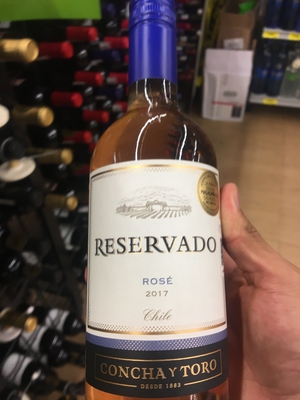reservado rose: (80, 17, 226, 400)
